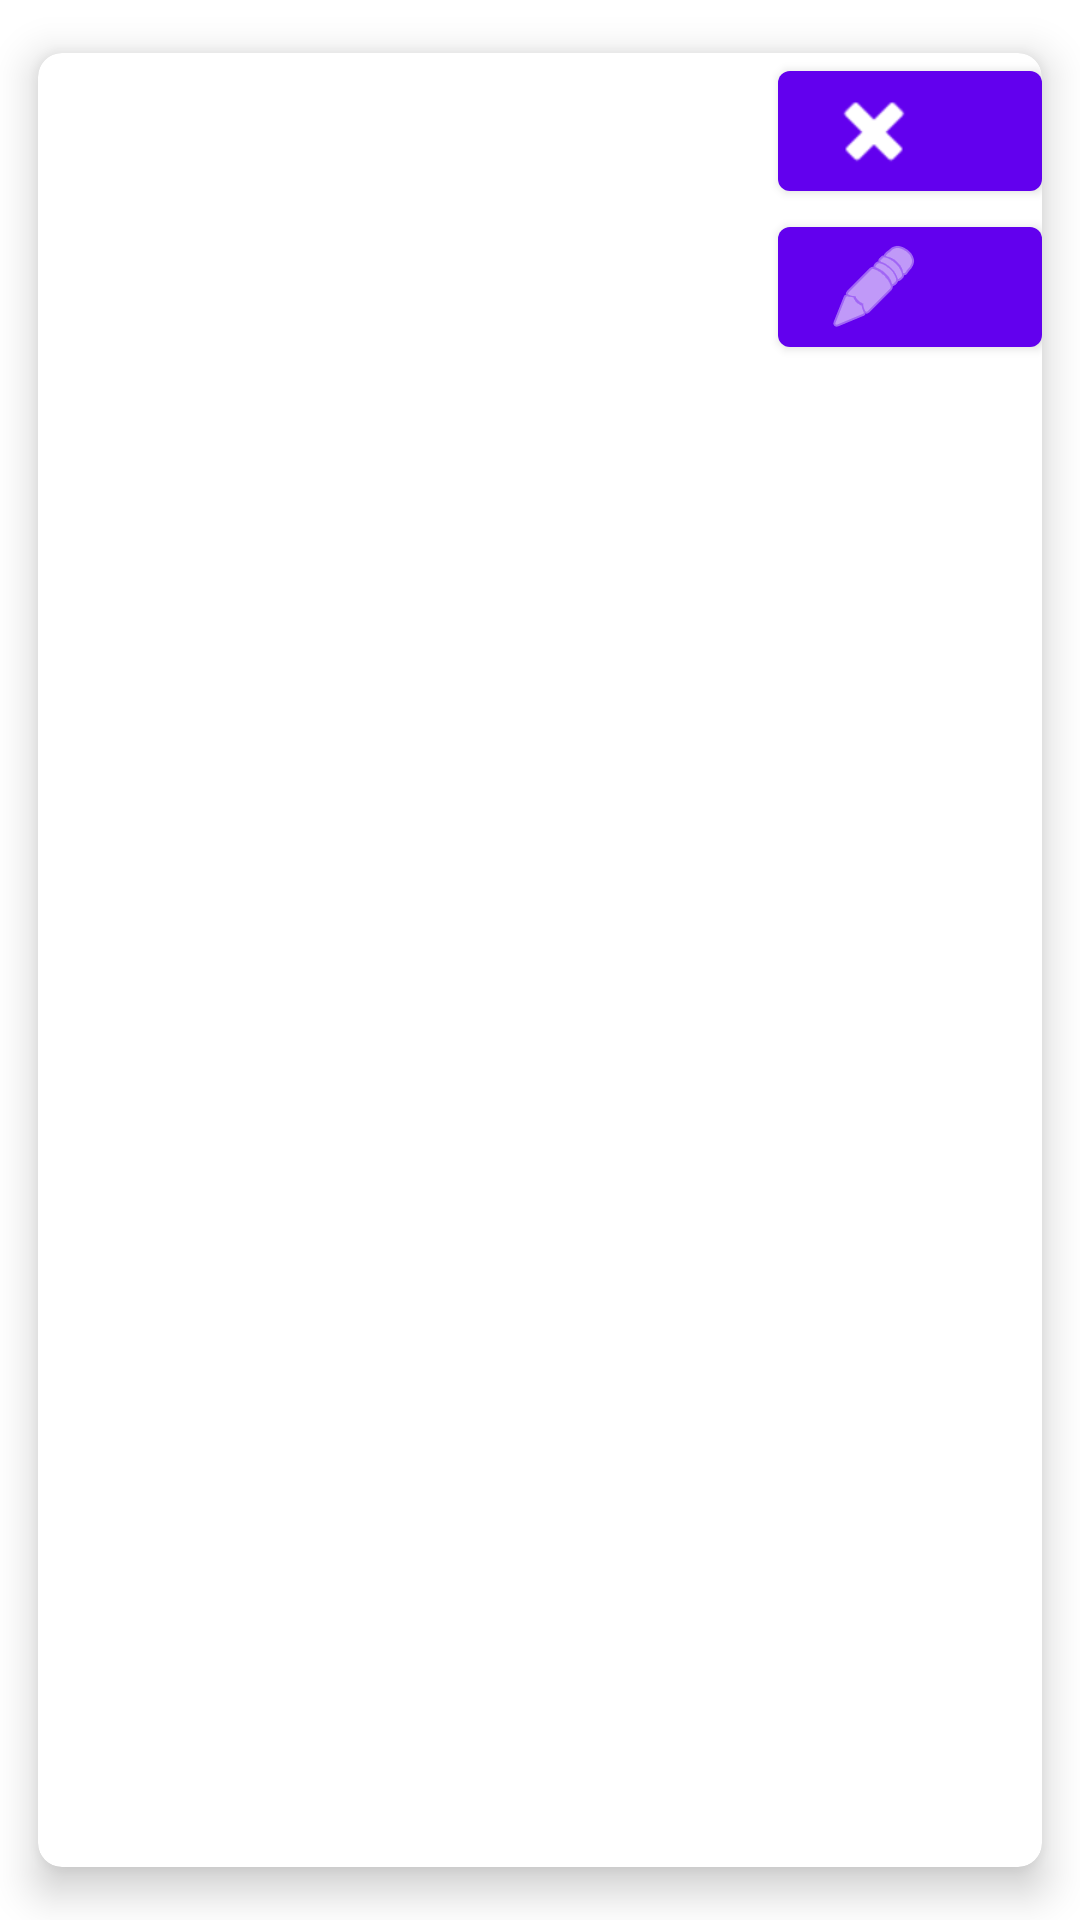

Screen size 1080px x 1920px. Icon name, then its center in pixels as point (x, y):
delete: point (910, 126)
edit: point (910, 287)
